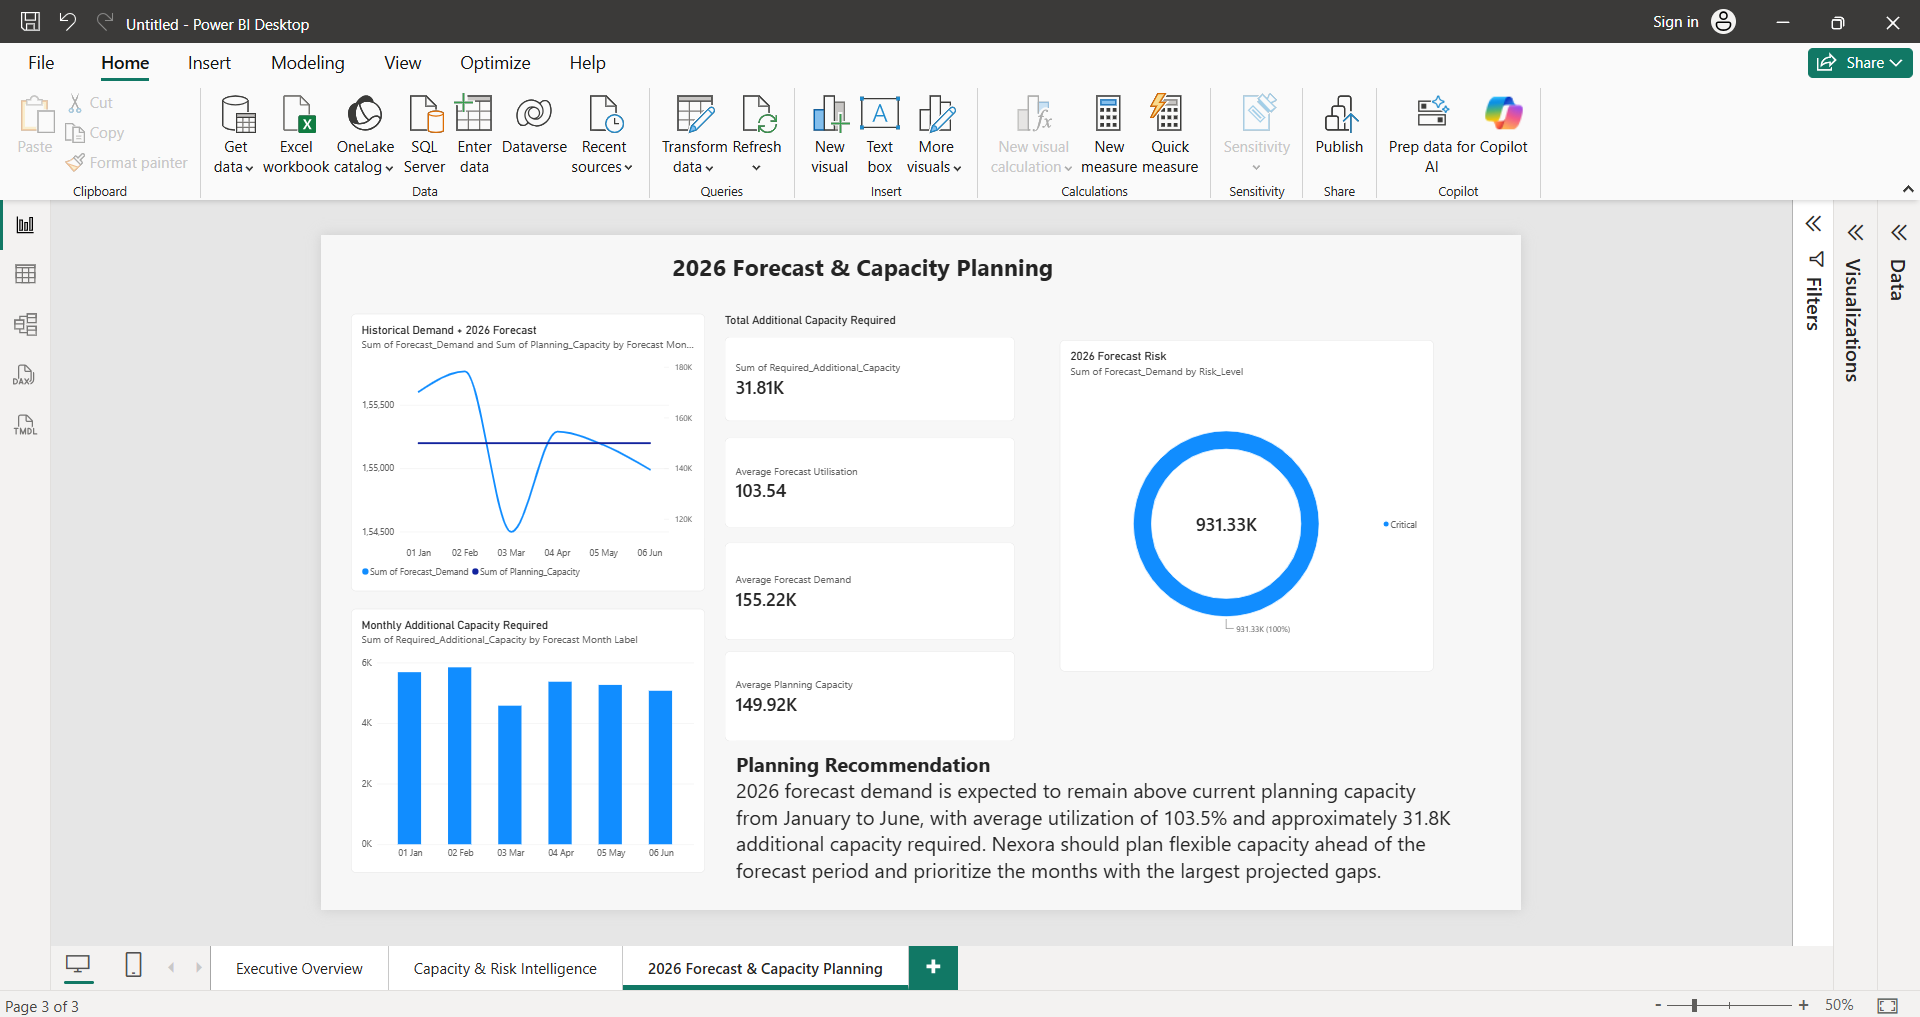

Layout of this report page (visuals, bound fields, positions):
{"tool":"powerbi","page":{"name":"2026 Forecast & Capacity Planning","canvas":[1920,1080],"ordinal":2},"visuals":[{"type":"textbox","box":[96,26,1542,74],"z":0},{"type":"lineChart","title":"Historical Demand + 2026 Forecast","fields":{"Y":["Sum(Nexora Forecast 2026(in).Forecast_Demand)"],"Category":["Nexora Forecast 2026(in).Forecast Month Label"],"Y2":["Sum(Nexora Forecast 2026(in).Planning_Capacity)"]},"box":[48,126,566,444],"z":1000},{"type":"cardVisual","title":"Total Additional Capacity Required","fields":{"Data":["Sum(Nexora Forecast 2026(in).Required_Additional_Capacity)"]},"box":[646,126,464,172],"z":2000},{"type":"clusteredColumnChart","title":"Monthly Additional Capacity Required","fields":{"Category":["Nexora Forecast 2026(in).Forecast Month Label"],"Y":["Sum(Nexora Forecast 2026(in).Required_Additional_Capacity)"]},"box":[48,598,566,422],"z":3000},{"type":"donutChart","title":"2026 Forecast Risk","fields":{"Category":["Nexora Forecast 2026(in).Risk_Level"],"Y":["Sum(Nexora Forecast 2026(in).Forecast_Demand)"]},"box":[1182,168,598,530],"z":4000},{"type":"cardVisual","fields":{"Data":["Nexora Forecast 2026(in).Average Forecast Utilisation"]},"box":[646,324,464,144],"z":5000},{"type":"cardVisual","fields":{"Data":["Nexora Forecast 2026(in).Average Forecast Demand"]},"box":[646,492,464,156],"z":6000},{"type":"cardVisual","fields":{"Data":["Nexora Forecast 2026(in).Average Planning Capacity"]},"box":[646,666,464,144],"z":7000},{"type":"textbox","box":[664,824,1152,216],"z":7001}]}

Visuals, with their boxes on the page's 1920x1080 design canvas (x1, y1, x2, y2). These are canvas units, not pixel positions in the 1920x1017 screenshot, which may show the page scaled, cropped or inside an application window:
textbox: region(96, 26, 1638, 100)
"Historical Demand + 2026 Forecast" lineChart: region(48, 126, 614, 570)
"Total Additional Capacity Required" cardVisual: region(646, 126, 1110, 298)
"Monthly Additional Capacity Required" clusteredColumnChart: region(48, 598, 614, 1020)
"2026 Forecast Risk" donutChart: region(1182, 168, 1780, 698)
cardVisual - Nexora Forecast 2026(in).Average Forecast Utilisation: region(646, 324, 1110, 468)
cardVisual - Nexora Forecast 2026(in).Average Forecast Demand: region(646, 492, 1110, 648)
cardVisual - Nexora Forecast 2026(in).Average Planning Capacity: region(646, 666, 1110, 810)
textbox: region(664, 824, 1816, 1040)
